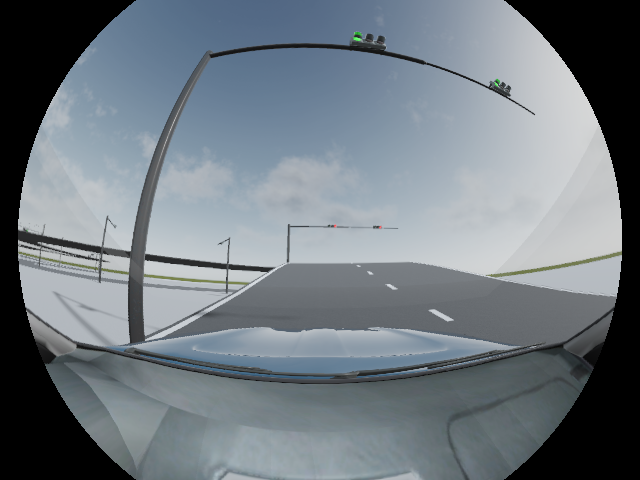Green Light: (347, 30, 387, 55), (491, 77, 514, 98)
